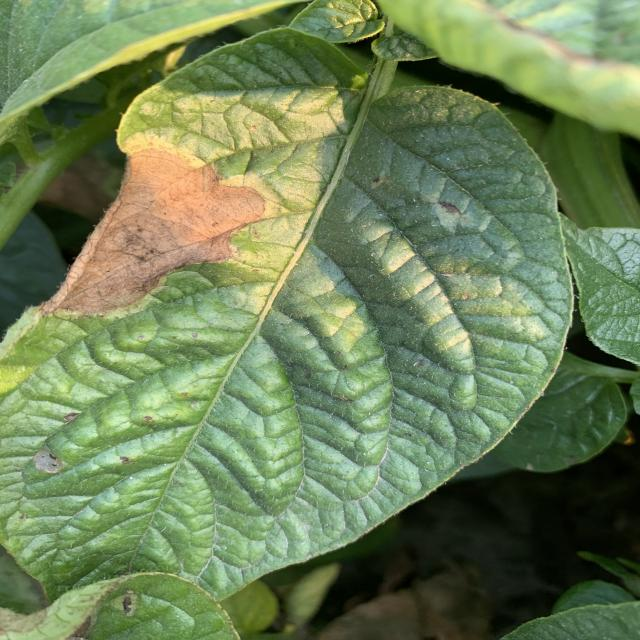lateblight: (42, 149, 265, 314)
